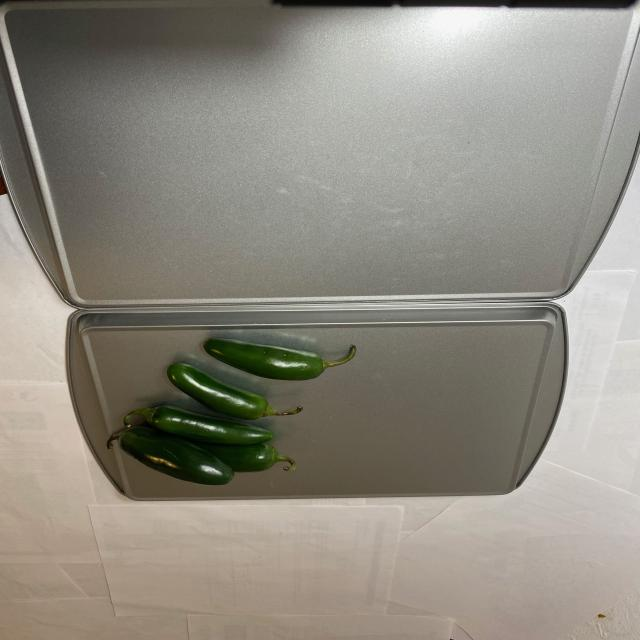chilli: (105, 329, 356, 487)
